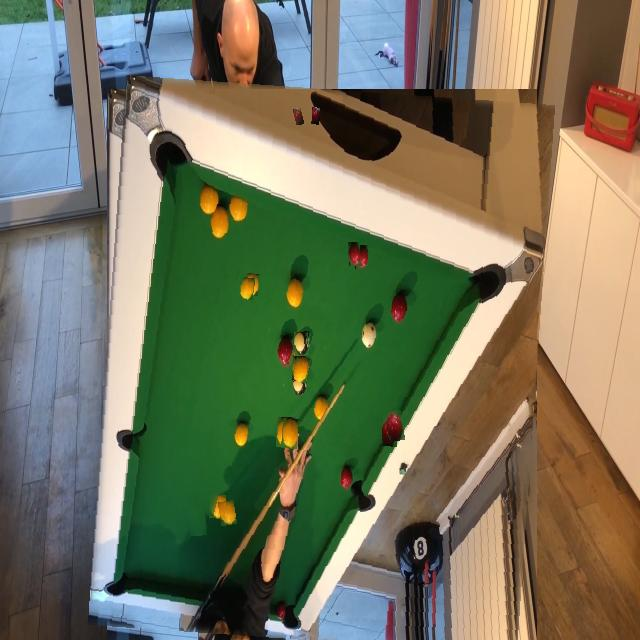Ball: (200, 482, 220, 516), (188, 507, 207, 536), (281, 419, 299, 449), (386, 411, 404, 441), (219, 500, 237, 526), (292, 357, 309, 384), (359, 384, 376, 411), (317, 308, 332, 334), (277, 362, 292, 388), (295, 332, 309, 356), (240, 278, 254, 300), (349, 242, 361, 266), (294, 108, 304, 125)
Billiard table: (97, 82, 546, 640)
